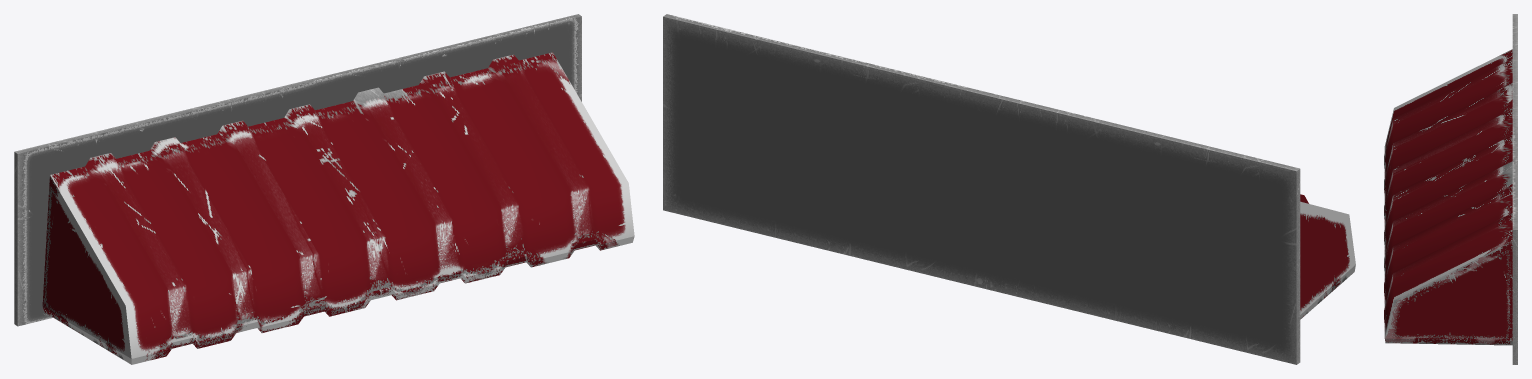
File: Awning_02.fbx
3 views of the same model, side by side, from view 1: azimuth 30°, elevation 25°; view 2: azimuth 150°, elevation 25°; view 3: azimuth 270°, elevation 25° (orthographic). The views are drawn at different scales.
Parts seen in each view (by area): view 1: pCube6; view 2: pCube6; view 3: pCube6.
Part boxes in pixels (x1=…): pCube6: x1=14, y1=14, x2=634, y2=364; pCube6: x1=663, y1=14, x2=1355, y2=364; pCube6: x1=1384, y1=14, x2=1517, y2=364.
Bounding box in the file's own units: 8.32 × 2.43 × 2.18.
